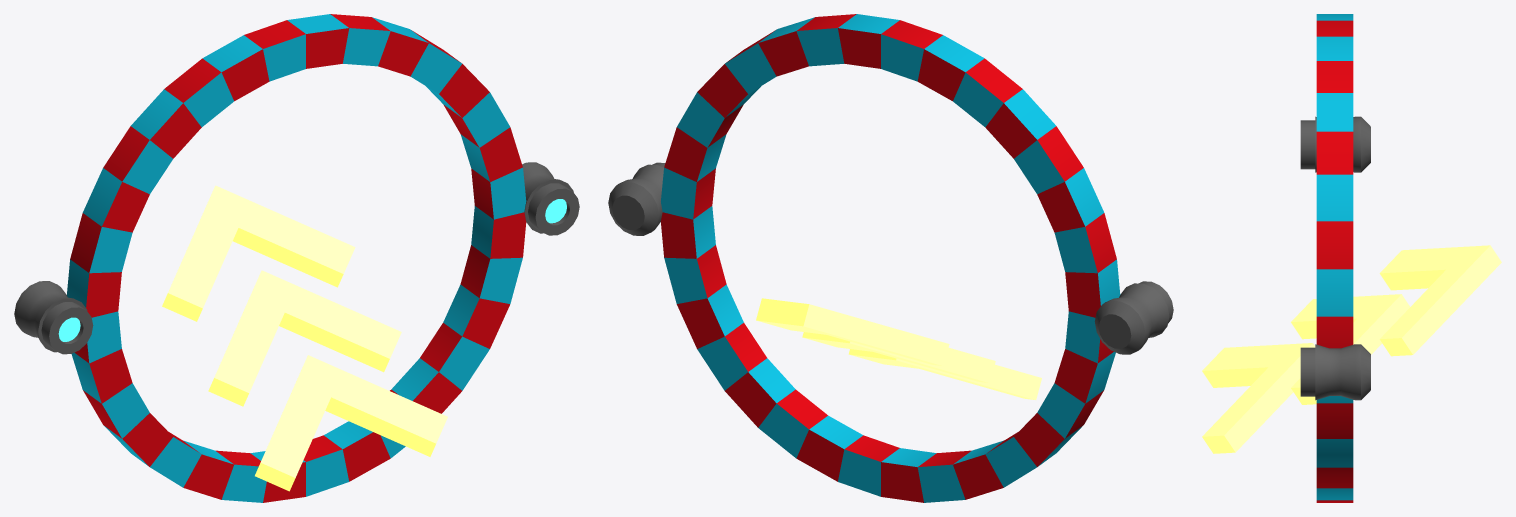
File: speedBoost.glb
3 views of the same model, side by side, from view 1: azimuth 30°, elevation 25°; view 2: azimuth 150°, elevation 25°; view 3: azimuth 270°, elevation 25° (orthographic). The views are drawn at different scales.
Parts seen in each view (by area): view 1: ring, boost; view 2: ring, boost; view 3: ring, boost.
Boxes of the visible parts, box(x1,y1,x2,y2) form: ring: box(14, 14, 579, 502); boost: box(162, 185, 447, 491); ring: box(608, 14, 1173, 502); boost: box(756, 298, 1041, 399); ring: box(1300, 14, 1370, 502); boost: box(1202, 245, 1501, 453).
Bounding box in the file's own units: 2.43 × 2 × 1.23.
